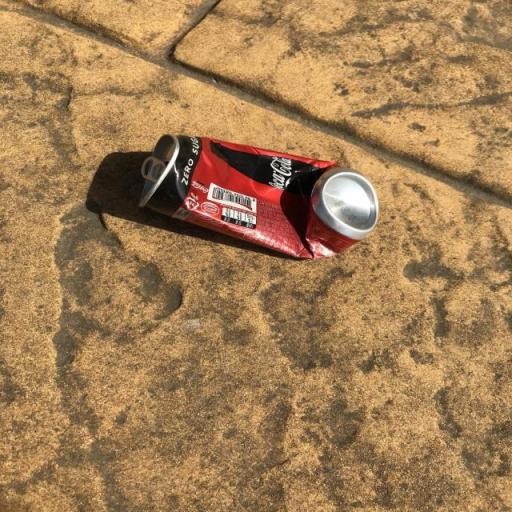metal: (118, 116, 406, 271)
